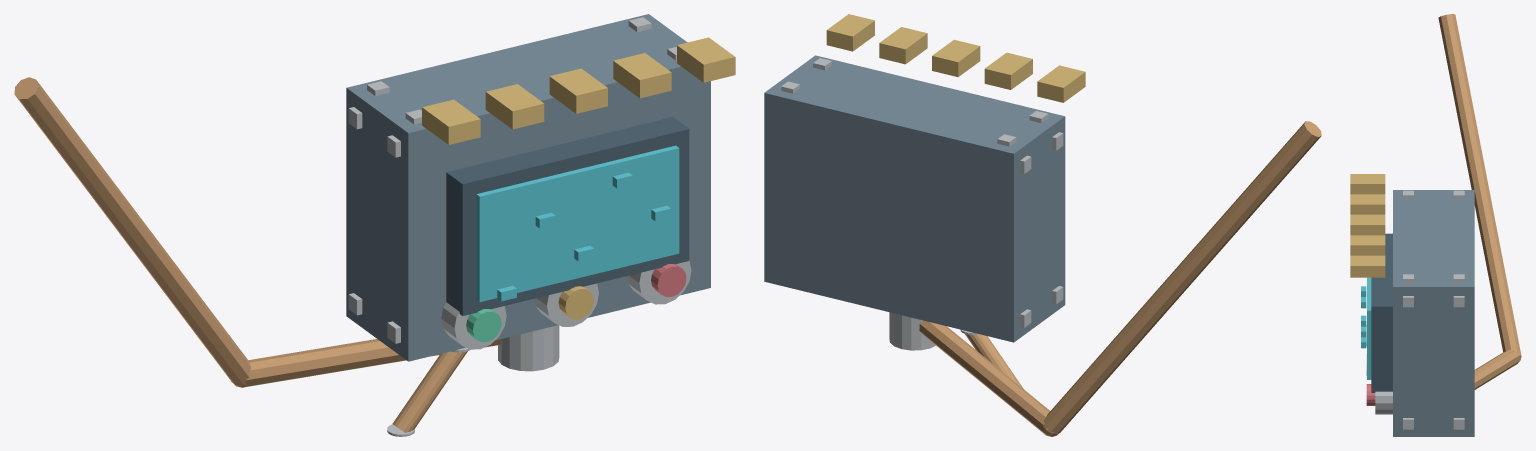
Rendered from 37_L75_WaferTemperatureSensor.glb.
The picture shows the model from 3 angles, left to right: view 1: azimuth 30°, elevation 25°; view 2: azimuth 150°, elevation 25°; view 3: azimuth 270°, elevation 25°; orthographic projection. The views are drawn at different scales.
Parts seen in each view (by area): view 1: WaferTemperatureSensor_Node_0000, WaferTemperatureSensor_Node_0010, WaferTemperatureSensor_Node_0009, WaferTemperatureSensor_Node_0032, WaferTemperatureSensor_Node_0031, WaferTemperatureSensor_Node_0022, WaferTemperatureSensor_Node_0023, WaferTemperatureSensor_Node_0027, WaferTemperatureSensor_Node_0026, WaferTemperatureSensor_Node_0028, WaferTemperatureSensor_Node_0029, WaferTemperatureSensor_Node_0030 (+6 smaller); view 2: WaferTemperatureSensor_Node_0000, WaferTemperatureSensor_Node_0032, WaferTemperatureSensor_Node_0031, WaferTemperatureSensor_Node_0028, WaferTemperatureSensor_Node_0029, WaferTemperatureSensor_Node_0026, WaferTemperatureSensor_Node_0027, WaferTemperatureSensor_Node_0030, WaferTemperatureSensor_Node_0022, WaferTemperatureSensor_Node_0023; view 3: WaferTemperatureSensor_Node_0000, WaferTemperatureSensor_Node_0032, WaferTemperatureSensor_Node_0009, WaferTemperatureSensor_Node_0031, WaferTemperatureSensor_Node_0030, WaferTemperatureSensor_Node_0028, WaferTemperatureSensor_Node_0027, WaferTemperatureSensor_Node_0029, WaferTemperatureSensor_Node_0026, WaferTemperatureSensor_Node_0010, WaferTemperatureSensor_Node_0020, WaferTemperatureSensor_Node_0021.
Part boxes in pixels (left/top/right/bottom): WaferTemperatureSensor_Node_0000: left=346, top=14, right=710, bottom=361; WaferTemperatureSensor_Node_0010: left=476, top=145, right=679, bottom=301; WaferTemperatureSensor_Node_0009: left=446, top=117, right=689, bottom=315; WaferTemperatureSensor_Node_0032: left=14, top=77, right=250, bottom=385; WaferTemperatureSensor_Node_0031: left=244, top=339, right=501, bottom=387; WaferTemperatureSensor_Node_0022: left=498, top=325, right=559, bottom=371; WaferTemperatureSensor_Node_0023: left=392, top=351, right=467, bottom=432; WaferTemperatureSensor_Node_0027: left=485, top=84, right=544, bottom=129; WaferTemperatureSensor_Node_0026: left=422, top=99, right=480, bottom=144; WaferTemperatureSensor_Node_0028: left=549, top=68, right=607, bottom=113; WaferTemperatureSensor_Node_0029: left=613, top=53, right=671, bottom=98; WaferTemperatureSensor_Node_0030: left=677, top=37, right=735, bottom=82; WaferTemperatureSensor_Node_0000: left=764, top=55, right=1065, bottom=342; WaferTemperatureSensor_Node_0032: left=1043, top=121, right=1321, bottom=434; WaferTemperatureSensor_Node_0031: left=919, top=320, right=1049, bottom=434; WaferTemperatureSensor_Node_0028: left=932, top=39, right=980, bottom=76; WaferTemperatureSensor_Node_0029: left=879, top=27, right=927, bottom=64; WaferTemperatureSensor_Node_0026: left=1037, top=65, right=1085, bottom=102; WaferTemperatureSensor_Node_0027: left=984, top=52, right=1032, bottom=89; WaferTemperatureSensor_Node_0030: left=826, top=14, right=874, bottom=51; WaferTemperatureSensor_Node_0022: left=889, top=312, right=935, bottom=350; WaferTemperatureSensor_Node_0023: left=965, top=334, right=1023, bottom=388; WaferTemperatureSensor_Node_0000: left=1393, top=190, right=1474, bottom=436; WaferTemperatureSensor_Node_0032: left=1438, top=14, right=1521, bottom=354; WaferTemperatureSensor_Node_0009: left=1371, top=233, right=1392, bottom=392; WaferTemperatureSensor_Node_0031: left=1474, top=349, right=1520, bottom=389; WaferTemperatureSensor_Node_0030: left=1350, top=255, right=1385, bottom=277; WaferTemperatureSensor_Node_0028: left=1350, top=214, right=1385, bottom=235; WaferTemperatureSensor_Node_0027: left=1350, top=194, right=1385, bottom=214; WaferTemperatureSensor_Node_0029: left=1350, top=235, right=1385, bottom=255; WaferTemperatureSensor_Node_0026: left=1350, top=174, right=1385, bottom=194; WaferTemperatureSensor_Node_0010: left=1367, top=277, right=1371, bottom=379; WaferTemperatureSensor_Node_0020: left=1375, top=391, right=1392, bottom=414; WaferTemperatureSensor_Node_0021: left=1366, top=384, right=1375, bottom=405.
Size of the model in its own units: 1.14 by 0.7198 by 0.39.
